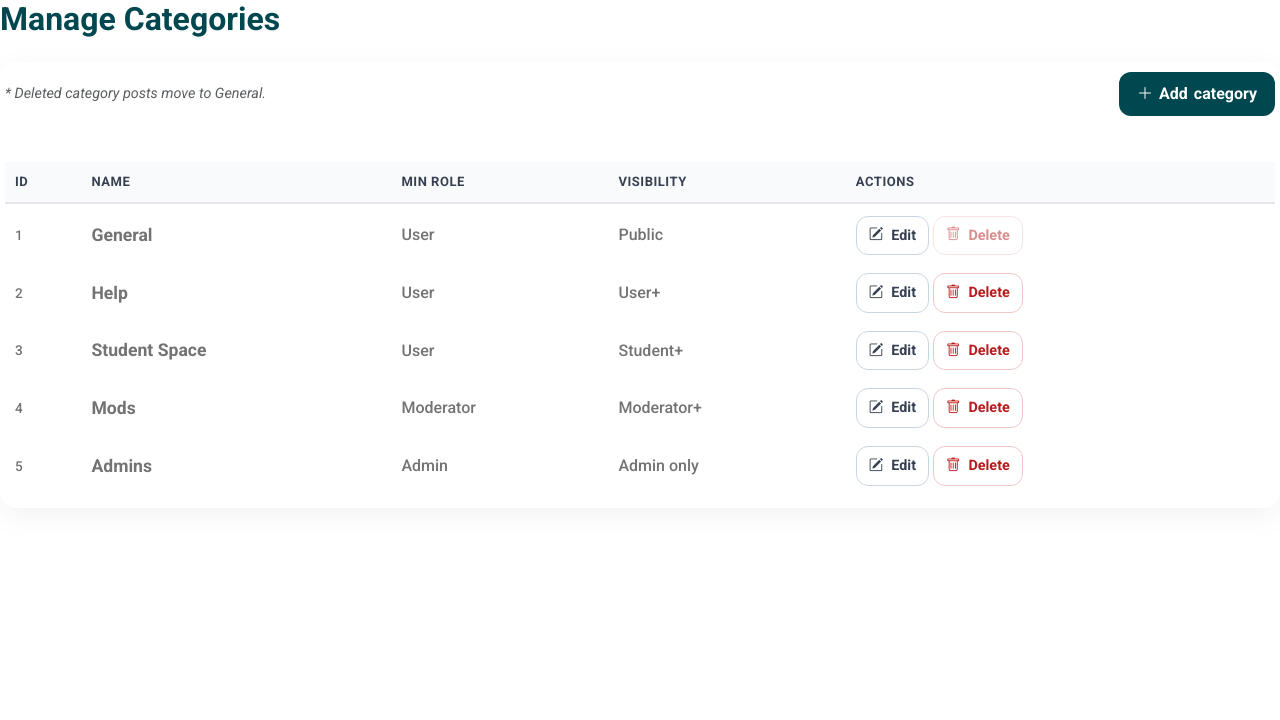
Test case: Manage Categories Visibility (Admin) — AdminCategories.vue › shows validation error when add name is empty
Click the button with class "btn-add".
click(1197, 94)  # box [1119, 72, 1275, 116]
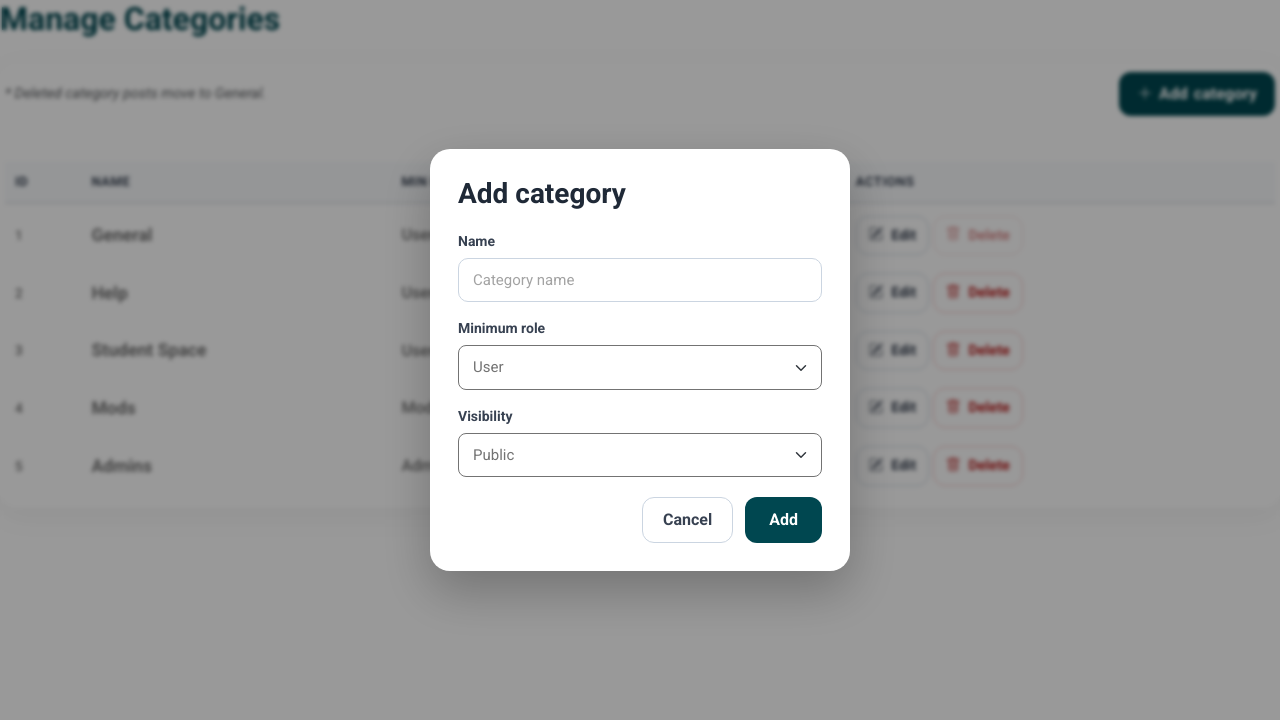
Click the button with class "btn-confirm".
click(784, 520)  # box [745, 497, 822, 543]
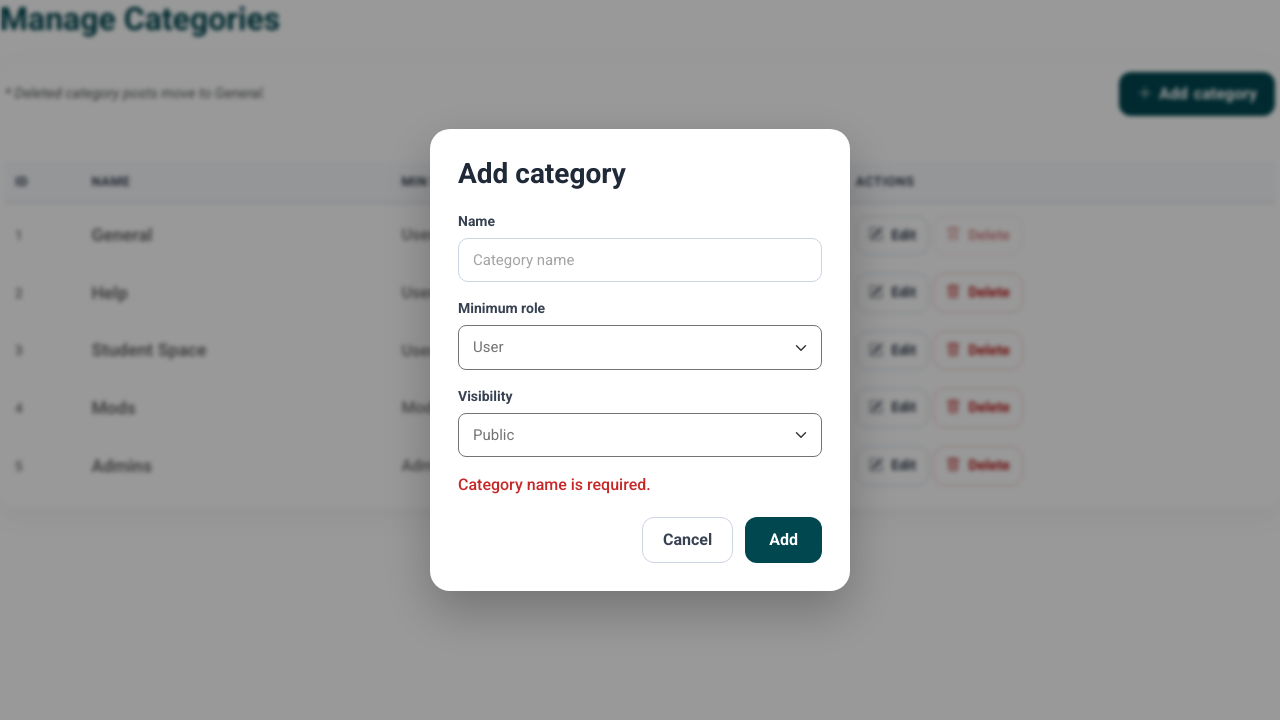
Check: the text "Category name is required." is shown, box [458, 475, 651, 494]
